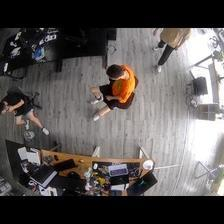normal: (84, 62, 139, 124), (1, 89, 51, 138)
